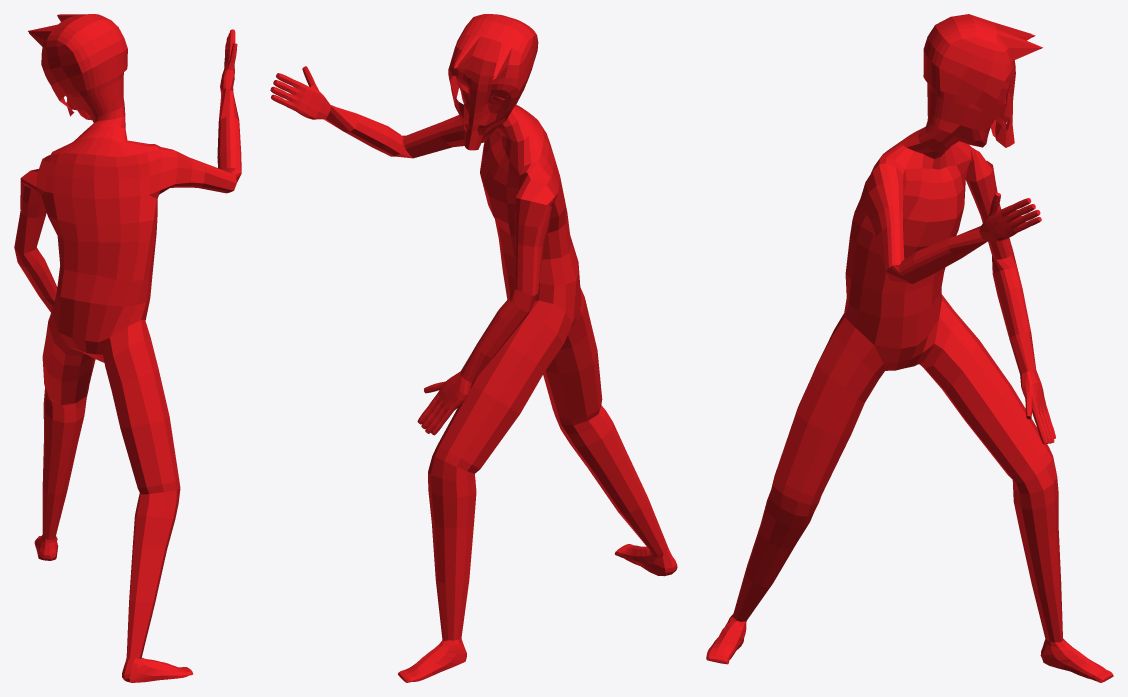
Rendered from activaAlarma_000145.obj.
The picture shows the model from 3 angles, left to right: view 1: azimuth 30°, elevation 25°; view 2: azimuth 150°, elevation 25°; view 3: azimuth 270°, elevation 25°; orthographic projection. The views are drawn at different scales.
Parts seen in each view (by area): view 1: Plane.002_Plane.001; view 2: Plane.002_Plane.001; view 3: Plane.002_Plane.001.
Boxes of the visible parts, left/top/right/bottom form: Plane.002_Plane.001: left=14, top=14, right=241, bottom=682; Plane.002_Plane.001: left=270, top=14, right=677, bottom=682; Plane.002_Plane.001: left=706, top=14, right=1113, bottom=682.
Bounding box in the file's own units: 2.92 × 6.65 × 3.77.
